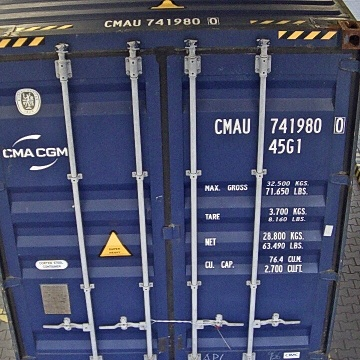serial_id: (215, 116, 345, 133)
